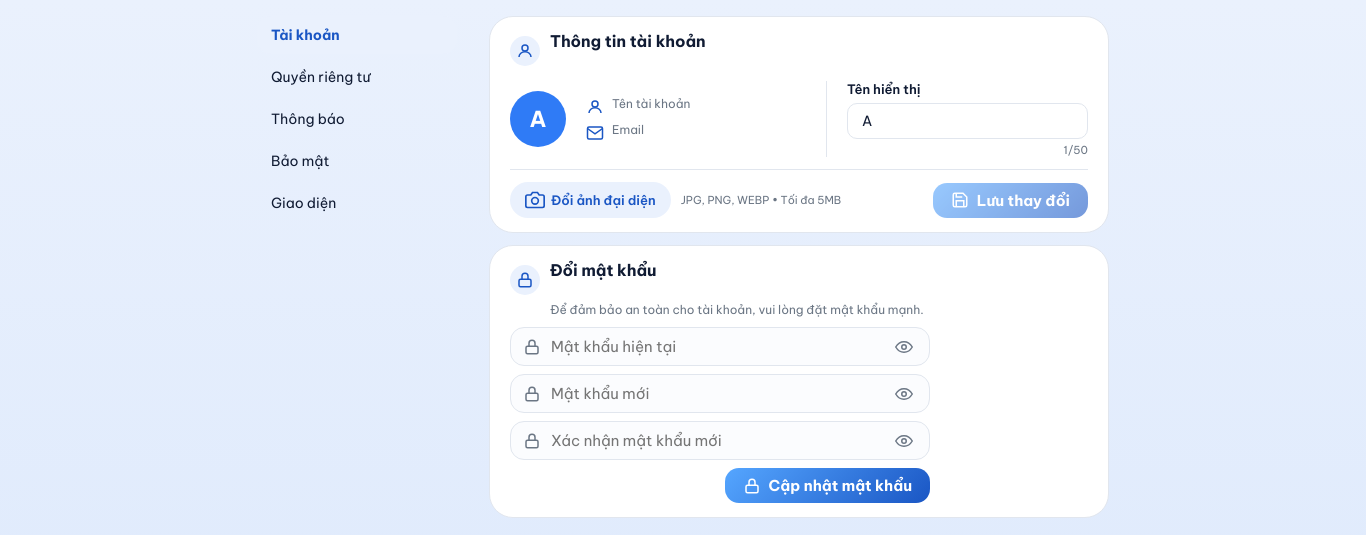
TrangCaiDat › bật toggle "cho phép người lạ" gọi CapNhatCaiDat với 6 tham số đúng
Click the button "Quyền riêng tư": (357, 77) [257,58,457,96]
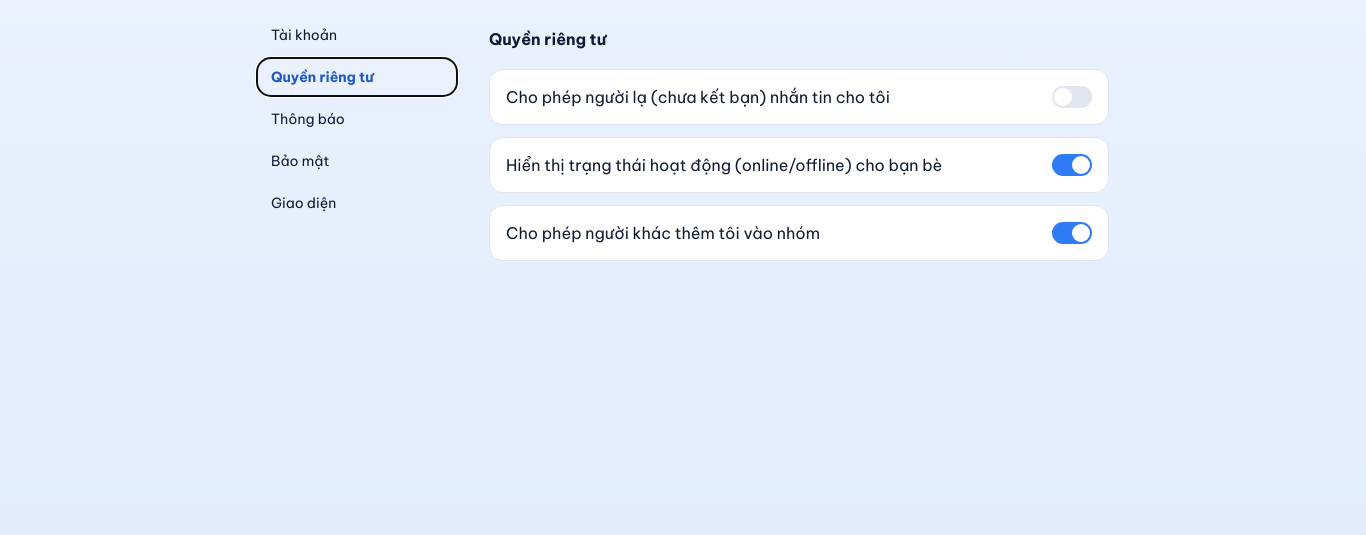
Click the switch named "Cho phép người lạ nhắn tin cho tôi": (1072, 97) [1052,86,1092,108]
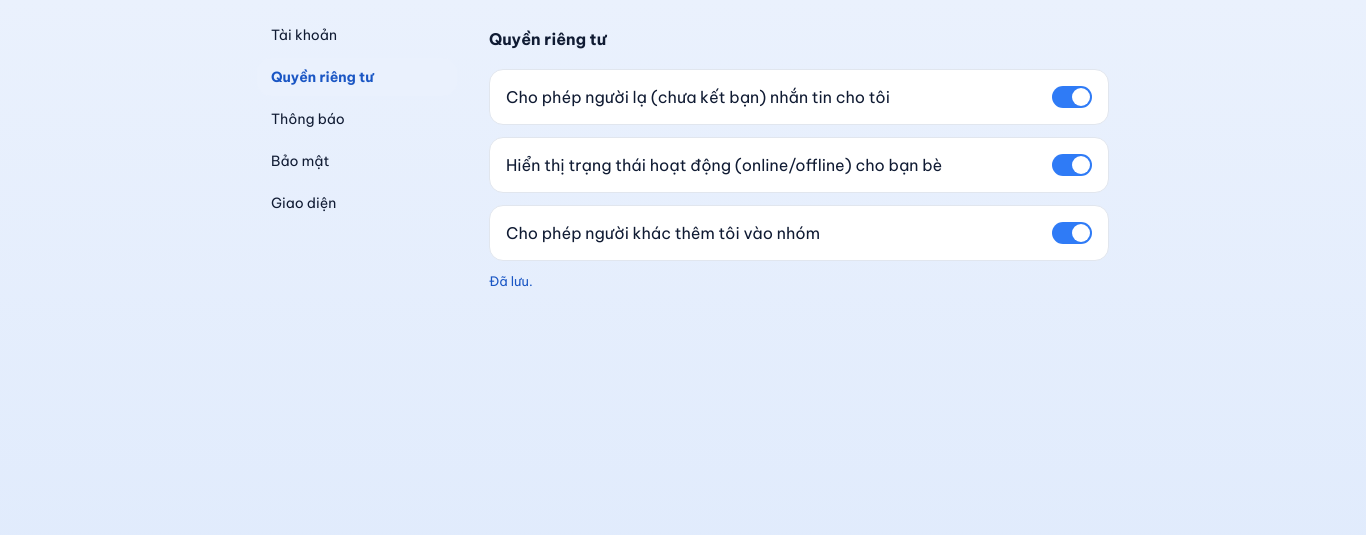
Now the text "Đã lưu." is shown, box [489,273,533,289]
